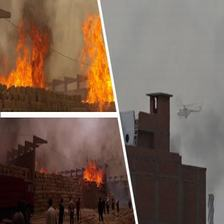fire: (3, 11, 65, 89), (78, 16, 118, 109), (74, 160, 110, 187), (37, 161, 51, 176)
